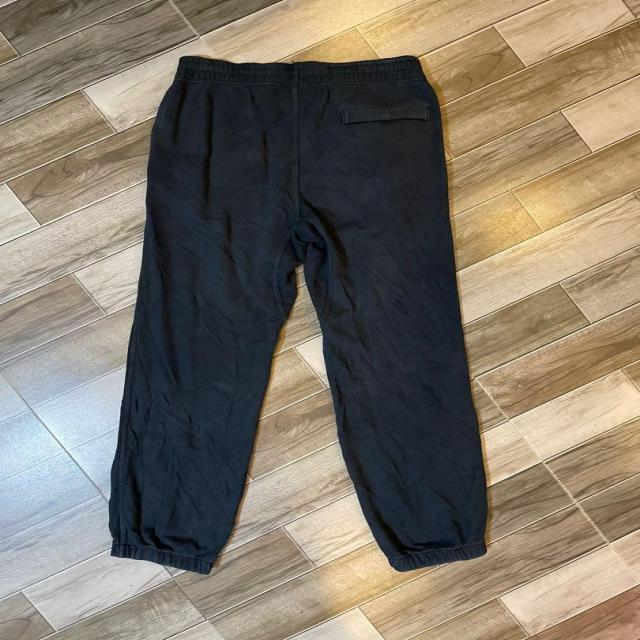long-pants: (106, 50, 494, 572)
